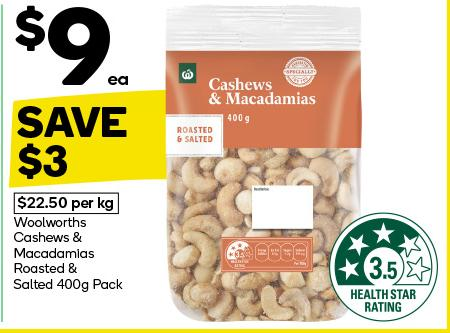description_block: (6, 214, 139, 297)
price_main: (5, 2, 144, 90)
product_image_block: (158, 5, 386, 330)
promo_text_block: (3, 96, 178, 187)
unit_price_block: (5, 189, 142, 216)
